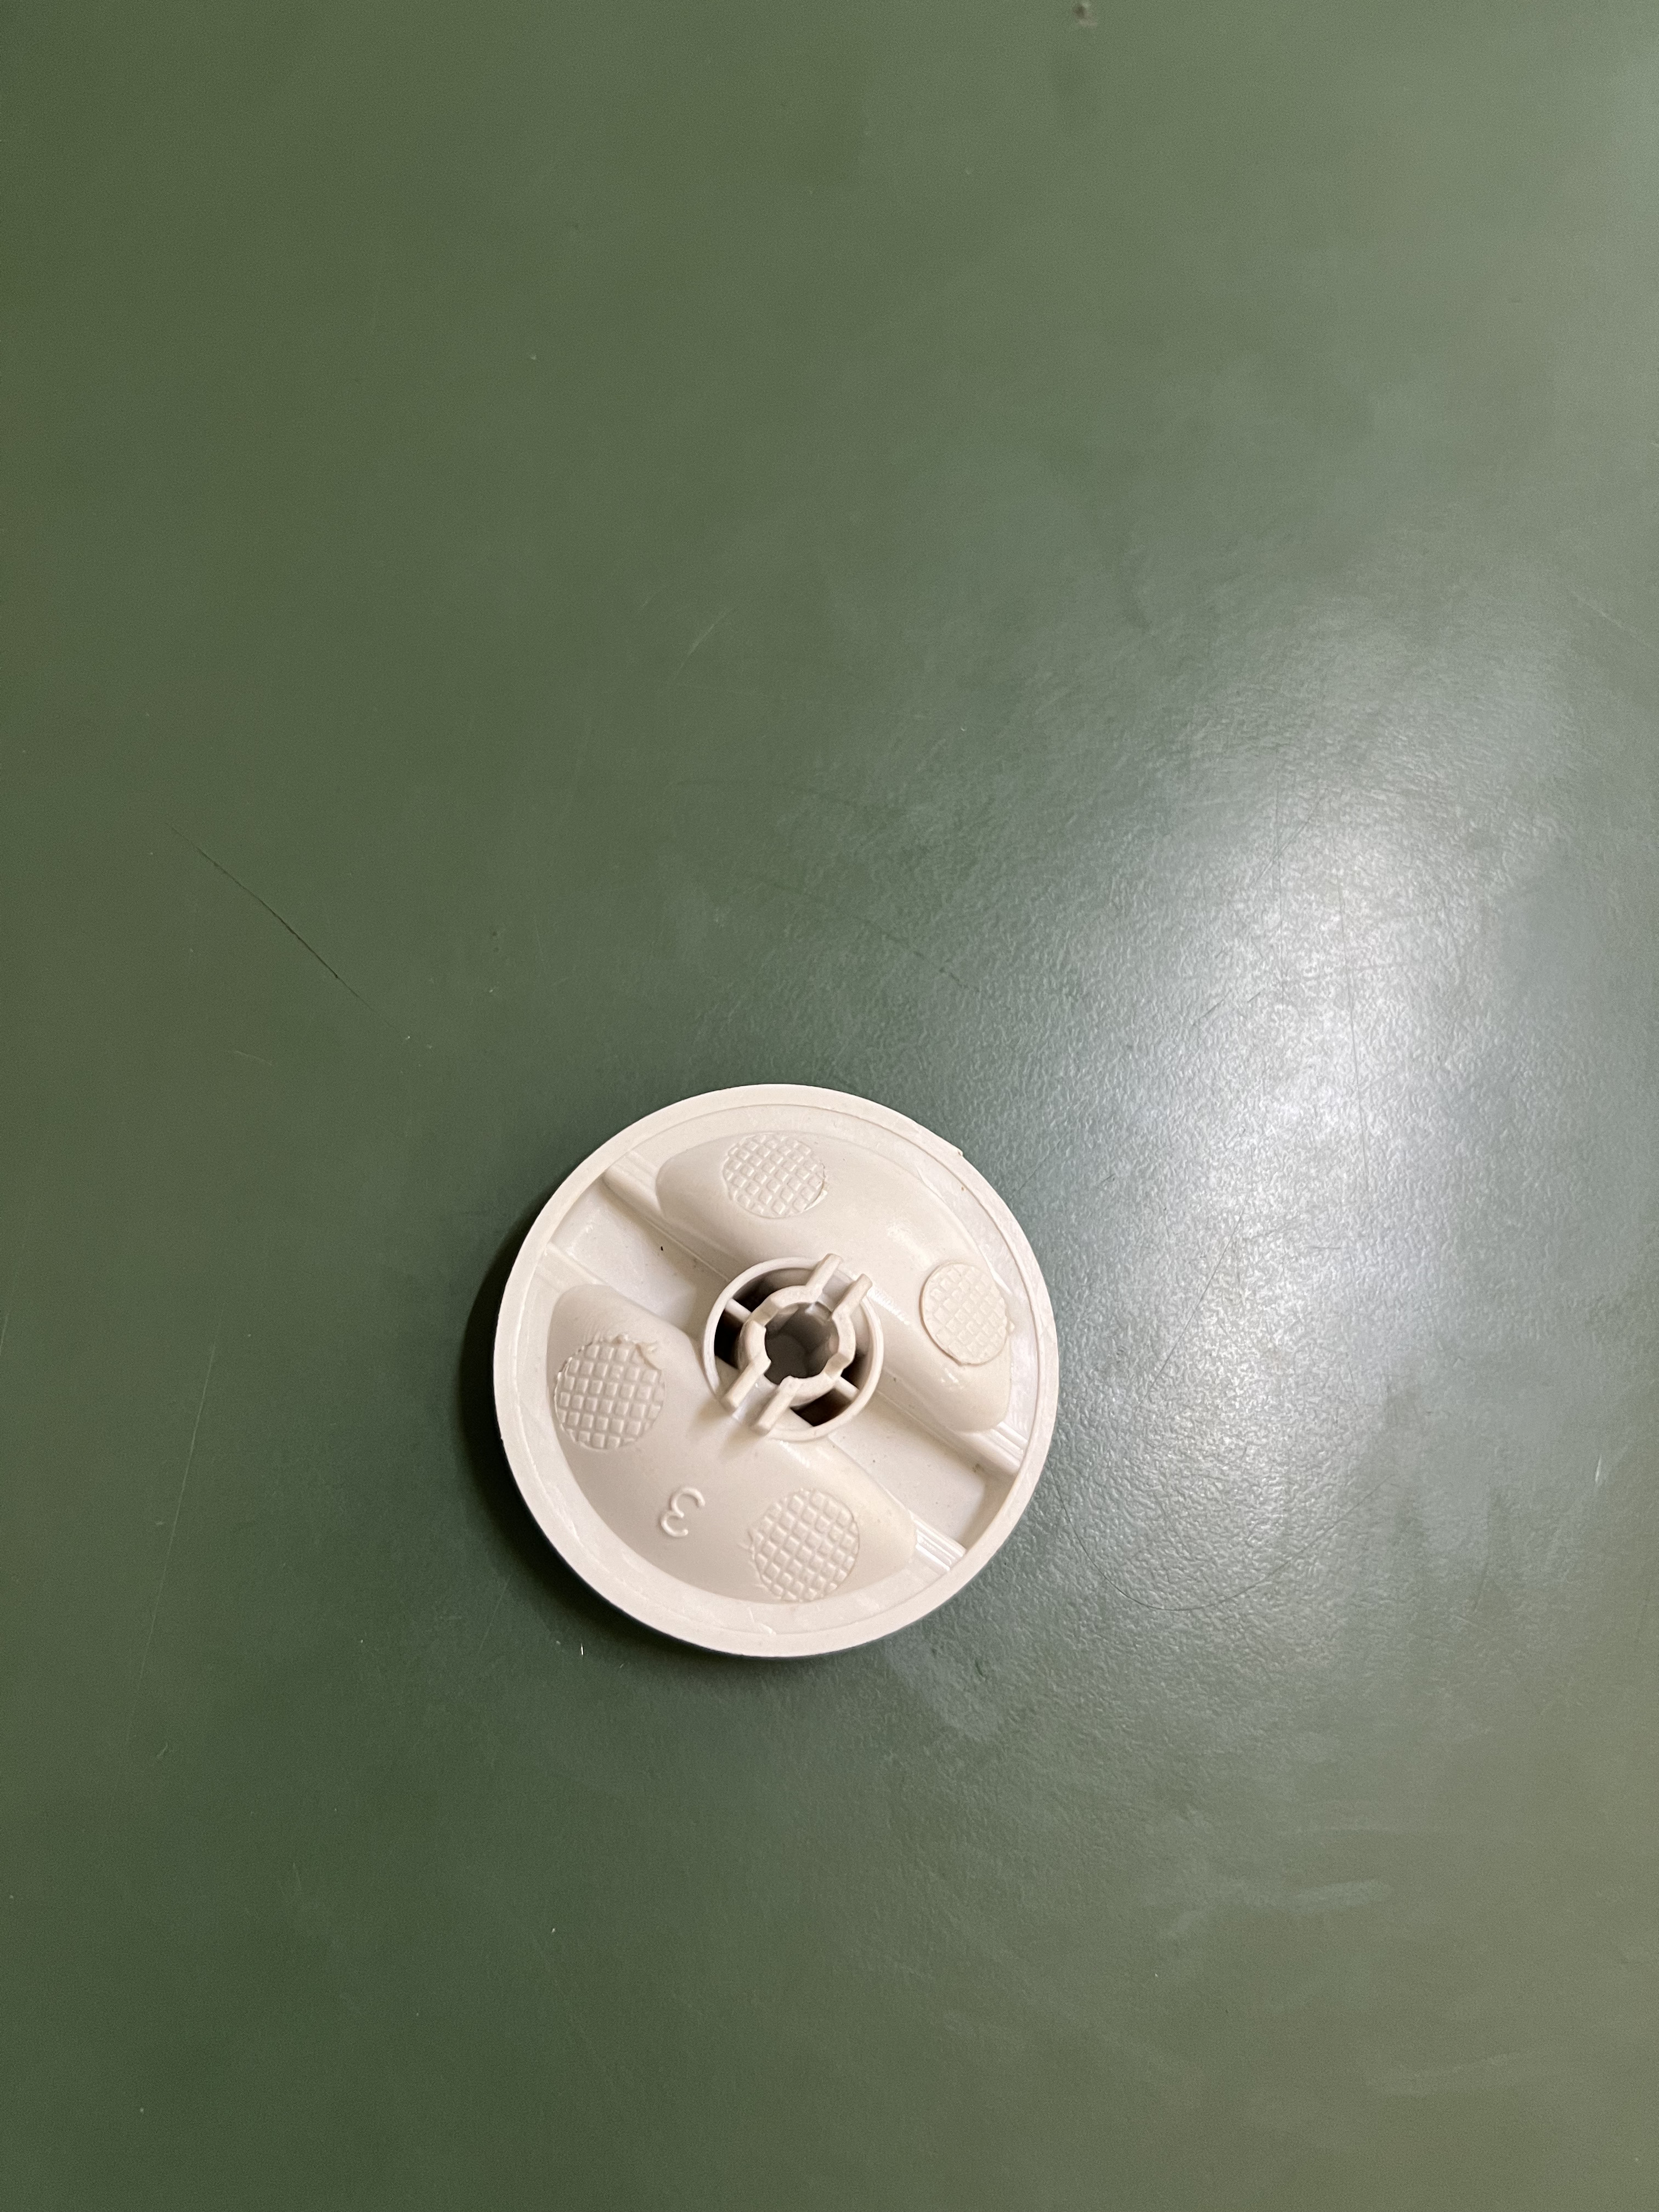regulator: (483, 1080, 1086, 1653)
